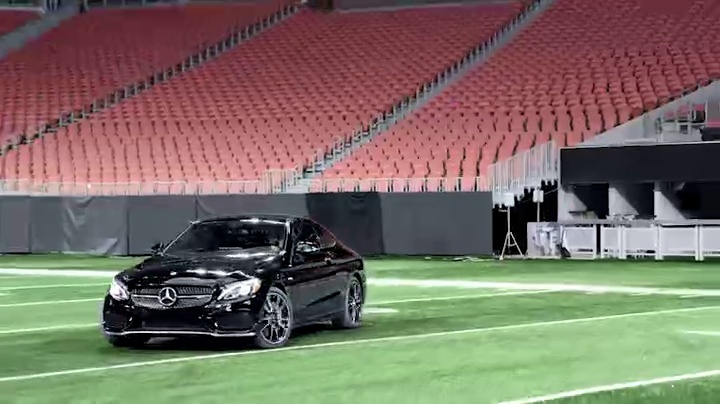amg: (98, 214, 365, 352)
